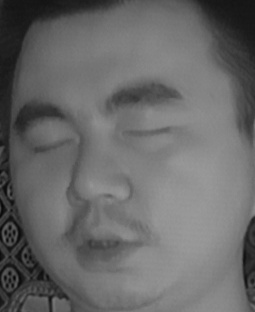blink: (120, 110, 175, 149), (27, 127, 77, 162)
mouth: (60, 215, 149, 276)
